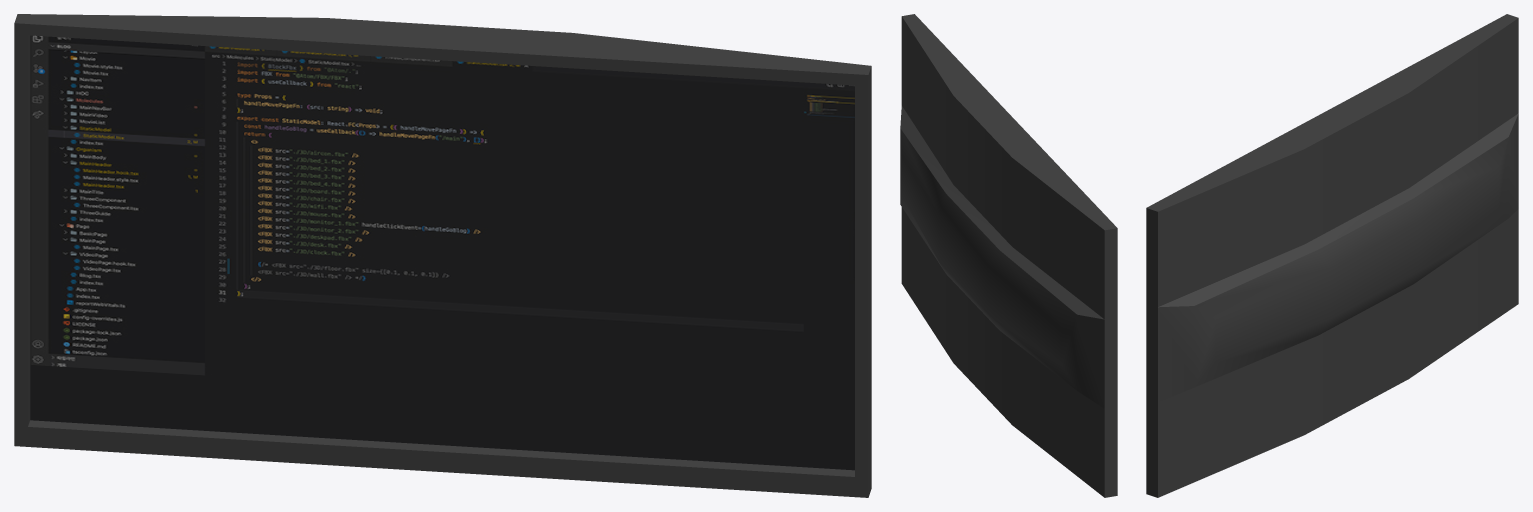
The model's file is monitor.fbx.
3 views of the same model, side by side, from view 1: azimuth 30°, elevation 25°; view 2: azimuth 150°, elevation 25°; view 3: azimuth 270°, elevation 25° (orthographic). The views are drawn at different scales.
Visible parts, largest first — view 1: monitor; view 2: monitor; view 3: monitor.
Part boxes in pixels (x1,y1,x2,y2): monitor: [14, 14, 871, 497]; monitor: [900, 14, 1117, 497]; monitor: [1146, 14, 1518, 497].
Size of the model in its own units: 1.32 by 0.8918 by 1.05.
1 material, 1 textured.
